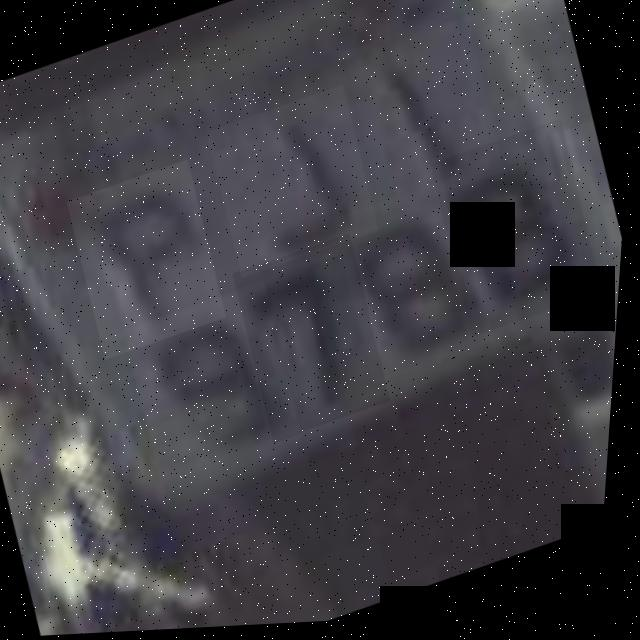7: (227, 234, 405, 448)
8: (424, 122, 616, 344), (327, 179, 508, 390)
9: (119, 281, 319, 499)
J: (335, 11, 516, 219), (201, 86, 390, 282)
P: (61, 159, 239, 363)
